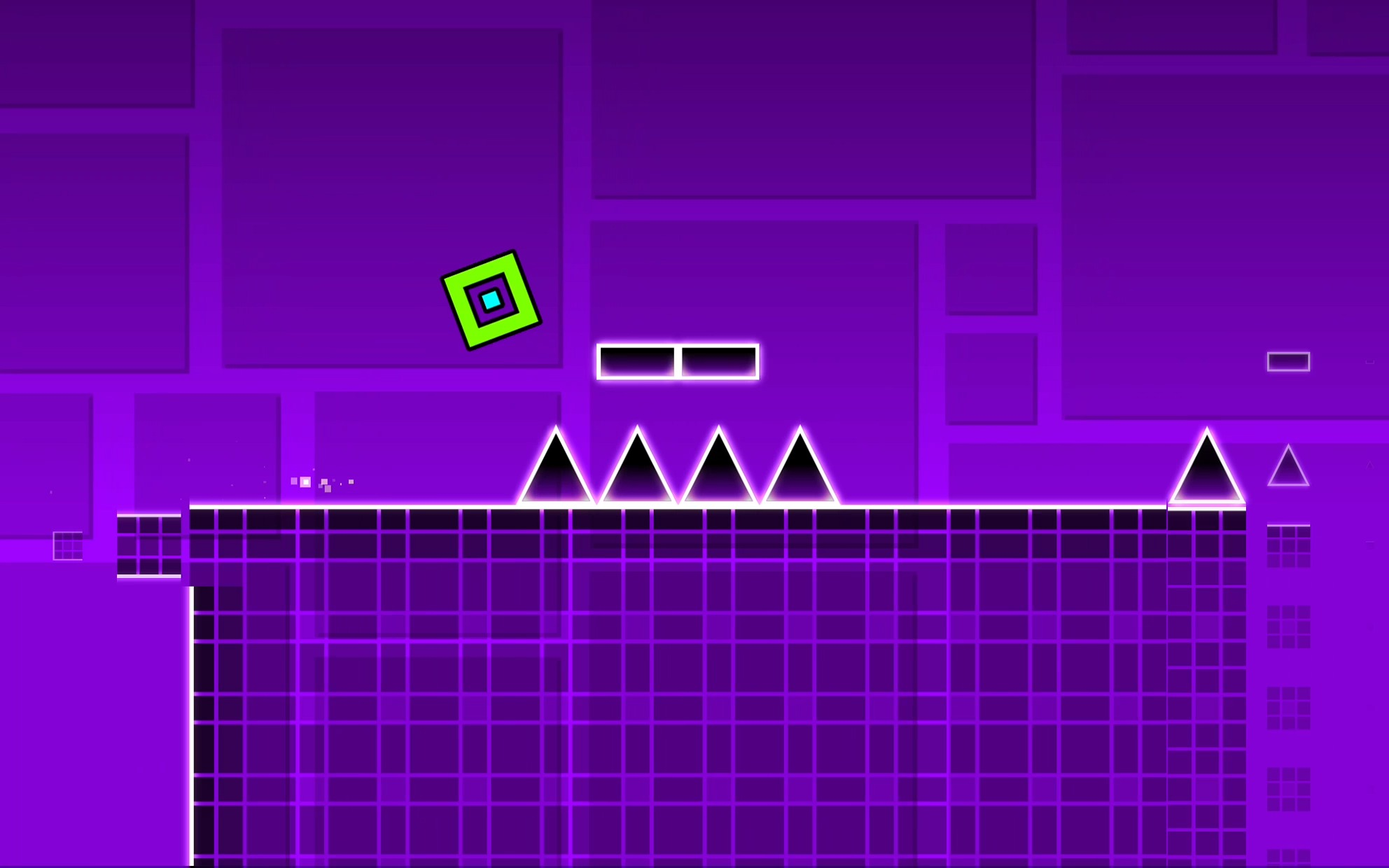Block2: (194, 505, 1252, 868), (115, 512, 186, 577)
Block3: (595, 343, 759, 381), (1267, 352, 1311, 372)
Player: (442, 251, 540, 348)
Spike: (1168, 428, 1244, 504), (518, 426, 592, 502), (601, 426, 675, 502), (764, 426, 837, 502), (683, 426, 754, 502), (1269, 444, 1309, 486)
